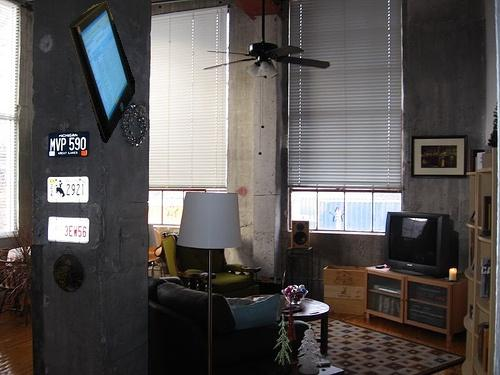tampered: (70, 2, 135, 143)
